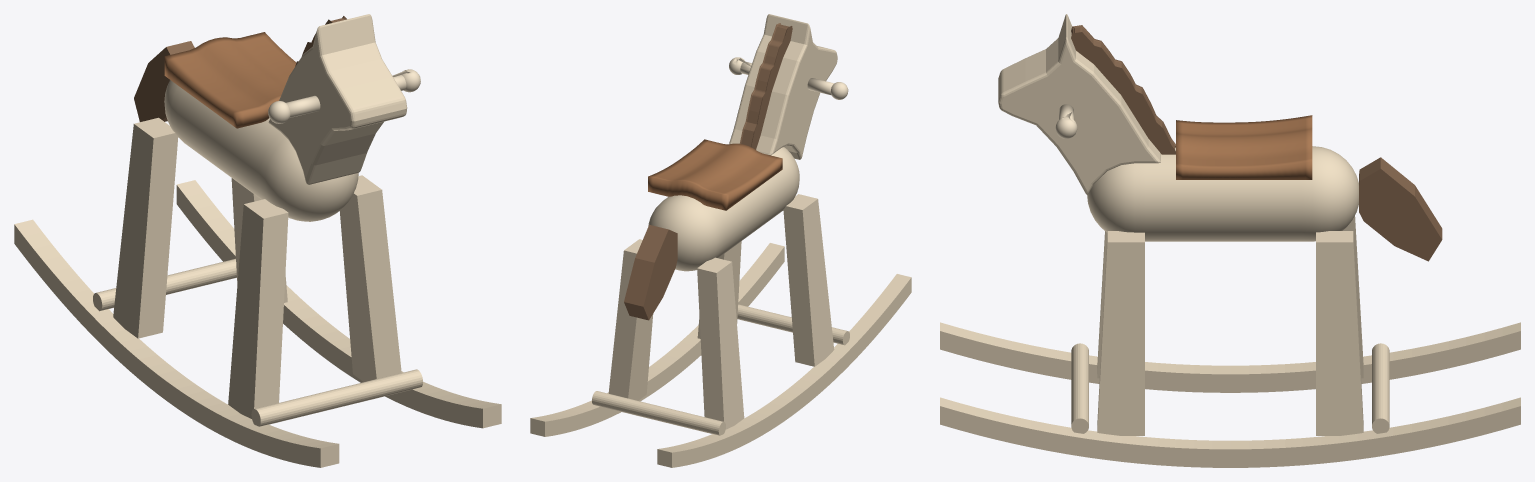
3 renders of one model, left to right at view 1: azimuth 30°, elevation 25°; view 2: azimuth 150°, elevation 25°; view 3: azimuth 270°, elevation 25°, orthographic. The views are drawn at different scales.
Visible parts, largest first — view 1: HorseNeckHead, Rocker_1, HorseBody, RearLeg_1, FrontLeg_1, FrontLeg_0, Saddle, Rocker_0, FootCrossbar_0, HorseTail, FootCrossbar_1, HandleGrip (+1 smaller); view 2: Rocker_1, HorseNeckHead, HorseBody, FrontLeg_1, RearLeg_1, Saddle, Rocker_0, RearLeg_0, HorseTail, HorseMane, FootCrossbar_1, FootCrossbar_0 (+2 smaller); view 3: HorseBody, Rocker_0, Rocker_1, HorseNeckHead, RearLeg_0, FrontLeg_0, Saddle, HorseTail, HorseMane, FootCrossbar_0, FootCrossbar_1, RearLeg_1.
Boxes of the visible parts, bbox=[...] form: HorseNeckHead: bbox=[268, 14, 407, 184]; Rocker_1: bbox=[14, 219, 339, 467]; HorseBody: bbox=[164, 80, 358, 221]; RearLeg_1: bbox=[113, 117, 178, 338]; FrontLeg_1: bbox=[228, 199, 288, 418]; FrontLeg_0: bbox=[339, 175, 401, 381]; Saddle: bbox=[164, 32, 296, 128]; Rocker_0: bbox=[176, 180, 501, 428]; FootCrossbar_0: bbox=[251, 369, 422, 426]; HorseTail: bbox=[134, 41, 194, 121]; FootCrossbar_1: bbox=[93, 258, 236, 311]; HandleGrip: bbox=[268, 69, 420, 123]; Rocker_1: bbox=[657, 274, 911, 467]; HorseNeckHead: bbox=[729, 14, 837, 159]; HorseBody: bbox=[648, 147, 799, 271]; FrontLeg_1: bbox=[783, 194, 834, 366]; RearLeg_1: bbox=[697, 257, 744, 429]; Saddle: bbox=[648, 139, 782, 210]; Rocker_0: bbox=[530, 243, 784, 436]; RearLeg_0: bbox=[608, 239, 653, 400]; HorseTail: bbox=[624, 225, 677, 320]; HorseMane: bbox=[739, 23, 792, 149]; FootCrossbar_1: bbox=[592, 391, 725, 435]; FootCrossbar_0: bbox=[737, 304, 849, 345]; HorseBody: bbox=[1087, 146, 1358, 241]; Rocker_0: bbox=[940, 397, 1520, 467]; Rocker_1: bbox=[940, 322, 1520, 392]; HorseNeckHead: bbox=[998, 14, 1160, 194]; RearLeg_0: bbox=[1316, 231, 1363, 435]; FrontLeg_0: bbox=[1097, 231, 1144, 435]; Saddle: bbox=[1176, 115, 1312, 179]; HorseTail: bbox=[1359, 157, 1442, 261]; HorseMane: bbox=[1071, 25, 1175, 154]; FootCrossbar_0: bbox=[1071, 343, 1088, 433]; FootCrossbar_1: bbox=[1372, 343, 1389, 433]; RearLeg_1: bbox=[1343, 216, 1363, 378].
Size of the model in its own units: 0.29 by 0.6469 by 0.85.
